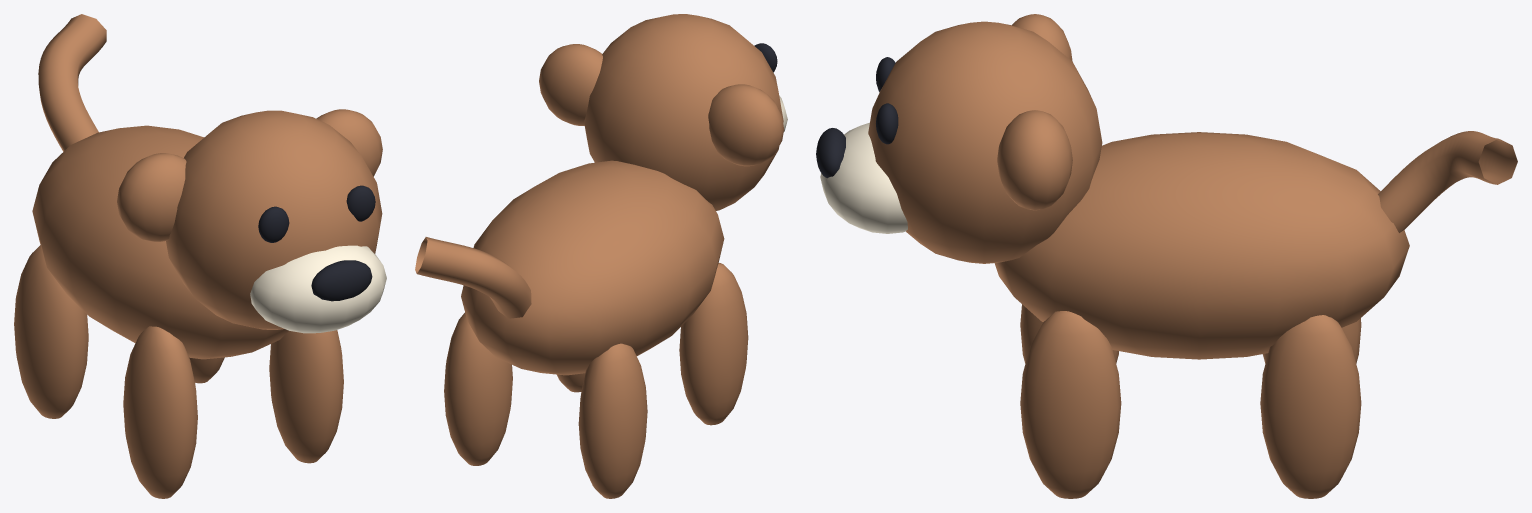
The model's file is word-bear.glb.
3 views of the same model, side by side, from view 1: azimuth 30°, elevation 25°; view 2: azimuth 150°, elevation 25°; view 3: azimuth 270°, elevation 25° (orthographic). The views are drawn at different scales.
Visible parts, largest first — view 1: animal head, round animal body, little paw, little paw.001, little paw.002, muzzle, tail, animal ear, animal ear.001, nose, eye, eye.001 (+1 smaller); view 2: round animal body, animal head, little paw.001, little paw, little paw.003, animal ear, tail, animal ear.001; view 3: round animal body, animal head, little paw.002, little paw.003, tail, animal ear.001, muzzle, nose, animal ear, little paw, eye.001.
Boxes of the visible parts, left/top/right/bottom form: animal head: left=166, top=110, right=382, bottom=329; round animal body: left=32, top=125, right=288, bottom=359; little paw: left=123, top=326, right=197, bottom=498; little paw.001: left=14, top=245, right=88, bottom=418; little paw.002: left=269, top=330, right=343, bottom=463; muzzle: left=250, top=245, right=386, bottom=333; tail: left=38, top=14, right=106, bottom=151; animal ear: left=117, top=153, right=186, bottom=241; animal ear.001: left=316, top=109, right=382, bottom=176; nose: left=311, top=260, right=372, bottom=301; eye: left=258, top=206, right=289, bottom=242; eye.001: left=346, top=185, right=375, bottom=221; round animal body: left=461, top=160, right=724, bottom=375; animal head: left=584, top=14, right=783, bottom=210; little paw.001: left=578, top=343, right=647, bottom=498; little paw: left=679, top=263, right=748, bottom=425; little paw.003: left=444, top=312, right=512, bottom=465; animal ear: left=708, top=84, right=783, bottom=166; tail: left=415, top=237, right=531, bottom=318; animal ear.001: left=539, top=44, right=602, bottom=125; round animal body: left=994, top=132, right=1409, bottom=359; animal head: left=868, top=21, right=1102, bottom=263; little paw.002: left=1020, top=311, right=1121, bottom=498; little paw.003: left=1260, top=315, right=1361, bottom=498; tail: left=1378, top=131, right=1517, bottom=232; animal ear.001: left=997, top=110, right=1072, bottom=210; muzzle: left=820, top=122, right=907, bottom=233; nose: left=816, top=128, right=845, bottom=178; animal ear: left=1012, top=14, right=1072, bottom=61; little paw: left=1020, top=304, right=1118, bottom=363; eye.001: left=876, top=103, right=898, bottom=144.
Bounding box in the file's own units: 0.78 × 1.12 × 1.67.
